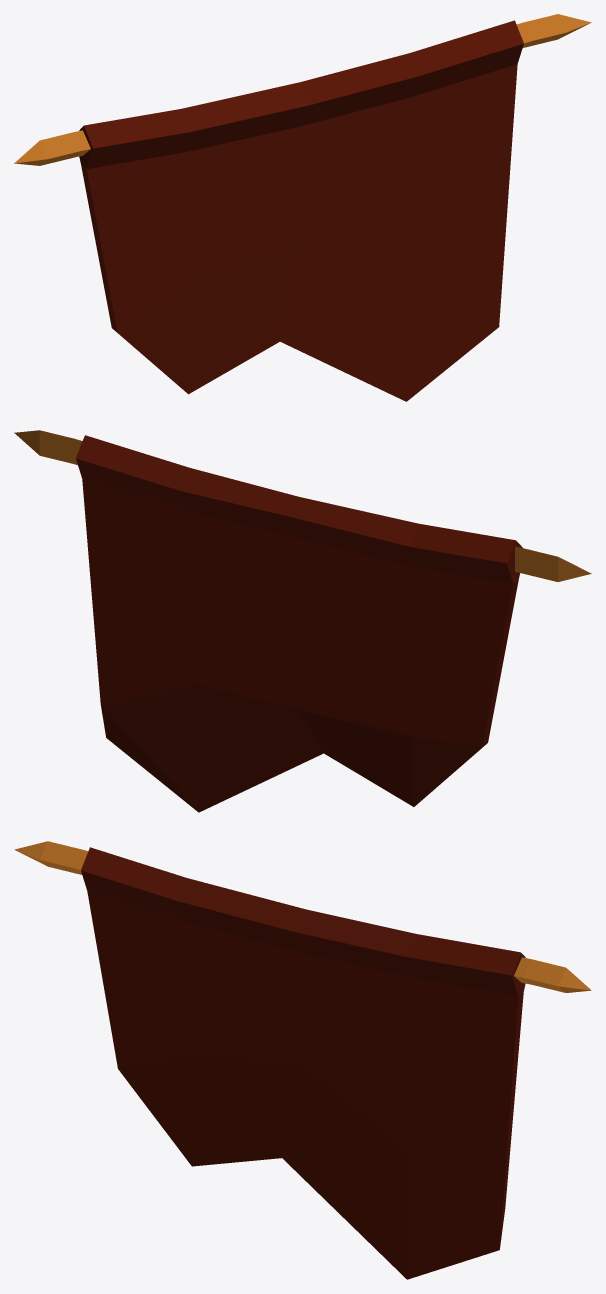
Rendered from SM_SM_Flag_03.fbx.
3 views of the same model, one above another, from view 1: azimuth 30°, elevation 25°; view 2: azimuth 150°, elevation 25°; view 3: azimuth 330°, elevation 25° (orthographic).
Parts seen in each view (by area): view 1: SM_Flag_03; view 2: SM_Flag_03; view 3: SM_Flag_03.
Boxes of the visible parts, bbox=[...] form: SM_Flag_03: bbox=[14, 14, 591, 401]; SM_Flag_03: bbox=[14, 430, 591, 812]; SM_Flag_03: bbox=[14, 841, 591, 1279].
Size of the model in its own units: 159 by 92.5 by 8.73.
